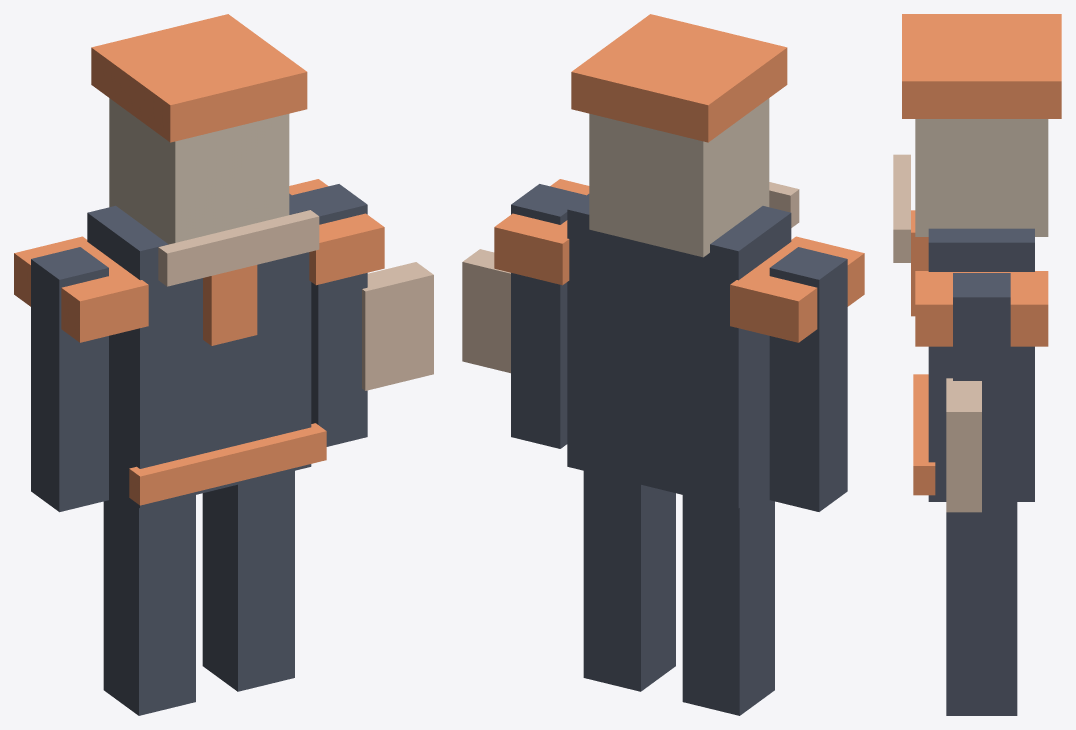
File: 19_calder_chromabell_tamer_at_fuel.glb
3 renders of one model, left to right at view 1: azimuth 30°, elevation 25°; view 2: azimuth 150°, elevation 25°; view 3: azimuth 270°, elevation 25°, orthographic.
Parts seen in each view (by area): view 1: Calder Chromabell, Tamer at Fuel; view 2: Calder Chromabell, Tamer at Fuel; view 3: Calder Chromabell, Tamer at Fuel.
Boxes of the visible parts, box(x1,y1,x2,y2) form: Calder Chromabell, Tamer at Fuel: box(14, 14, 433, 715); Calder Chromabell, Tamer at Fuel: box(462, 14, 864, 715); Calder Chromabell, Tamer at Fuel: box(893, 14, 1061, 715).
Bounding box in the file's own units: 1.05 × 1.68 × 0.4075.
